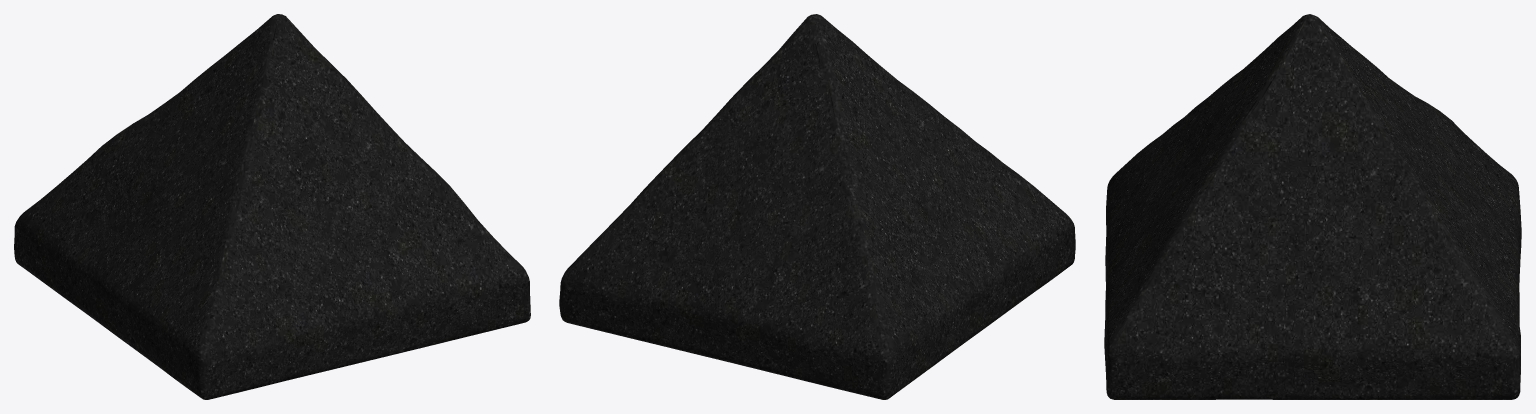
The model's file is tak-capstone-black.glb.
3 views of the same model, side by side, from view 1: azimuth 30°, elevation 25°; view 2: azimuth 150°, elevation 25°; view 3: azimuth 270°, elevation 25° (orthographic). The views are drawn at different scales.
Visible parts, largest first — view 1: tak-capstone-black; view 2: tak-capstone-black; view 3: tak-capstone-black.
Part boxes in pixels (x1,y1,x2,y2): tak-capstone-black: (14, 14, 530, 399); tak-capstone-black: (559, 14, 1075, 399); tak-capstone-black: (1104, 14, 1521, 399).
Bounding box in the file's own units: 0.0284 × 0.0226 × 0.0283.
1 material, 1 textured.
